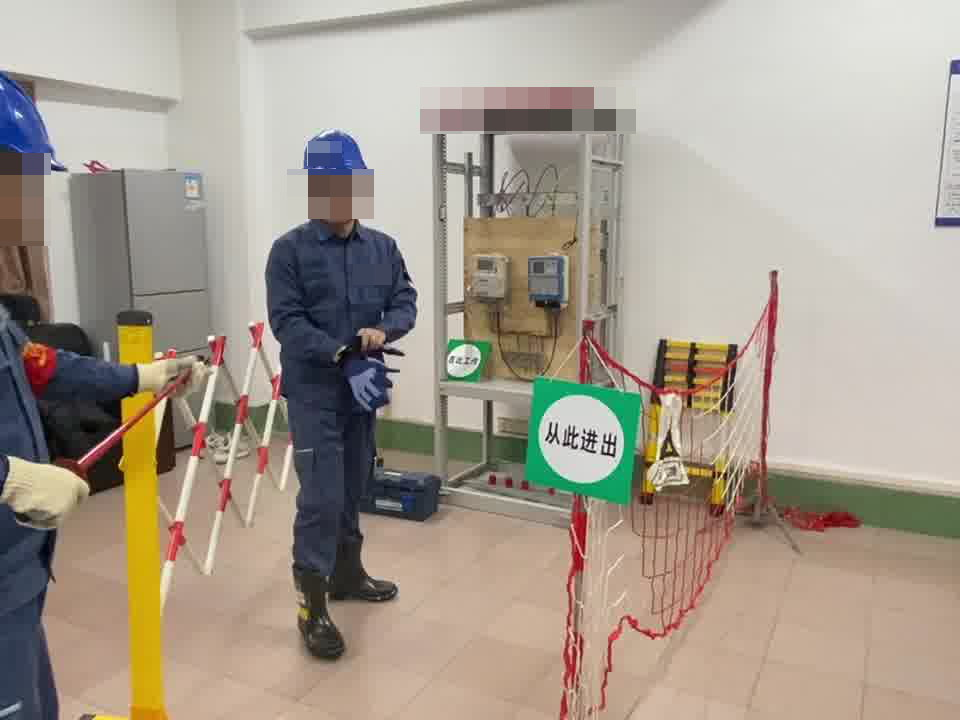badge: (20, 341, 58, 392)
downsuit: (284, 384, 390, 583)
glove: (334, 345, 398, 413)
halt: (1, 70, 76, 255), (299, 129, 372, 225)
hand: (354, 326, 388, 354)
intosign: (521, 373, 644, 504)
person: (1, 62, 142, 720), (257, 128, 420, 666)
shoe: (288, 567, 348, 661), (333, 534, 397, 603)
testrod: (49, 353, 209, 481)
upsuit: (1, 298, 139, 599), (261, 216, 418, 354)
wglove: (1, 454, 92, 532), (133, 353, 213, 397)
worksign: (445, 338, 491, 381)
